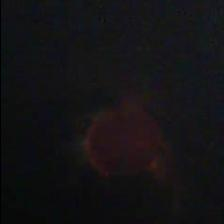fertile: (80, 110, 163, 178)
